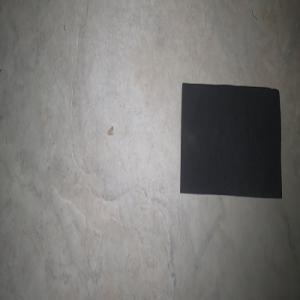PaintChip: (180, 82, 282, 199)
